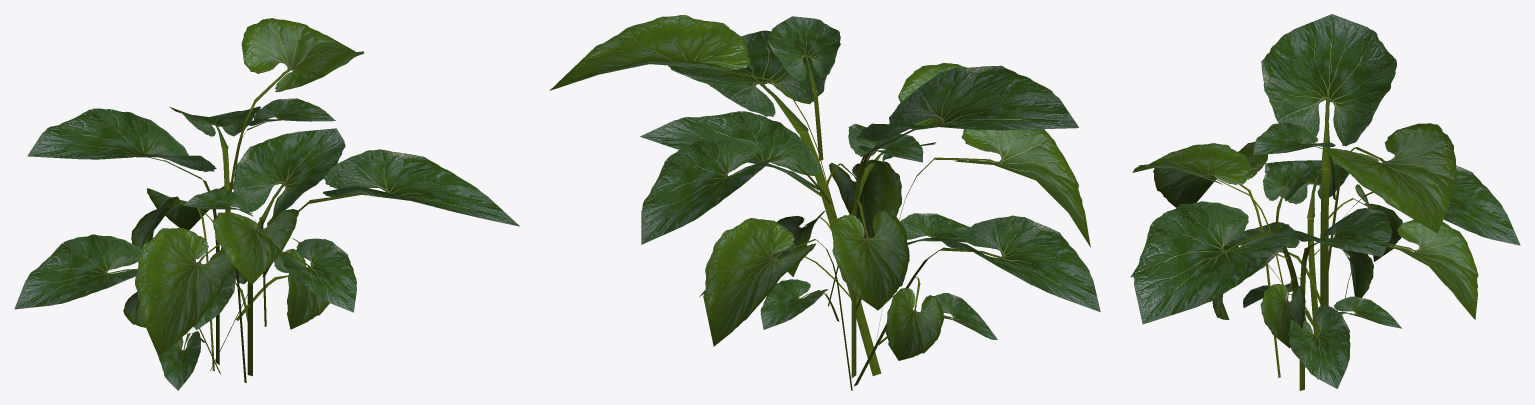
The model's file is yuxingcao.FBX.
3 views of the same model, side by side, from view 1: azimuth 30°, elevation 25°; view 2: azimuth 150°, elevation 25°; view 3: azimuth 270°, elevation 25° (orthographic). The views are drawn at different scales.
Parts seen in each view (by area): view 1: Object013; view 2: Object013; view 3: Object013.
Part boxes in pixels (x1,y1,x2,y2): Object013: (14,18,519,390); Object013: (549,15,1100,390); Object013: (1130,14,1520,390).
Size of the model in its own units: 82.01 by 53.63 by 64.01.
